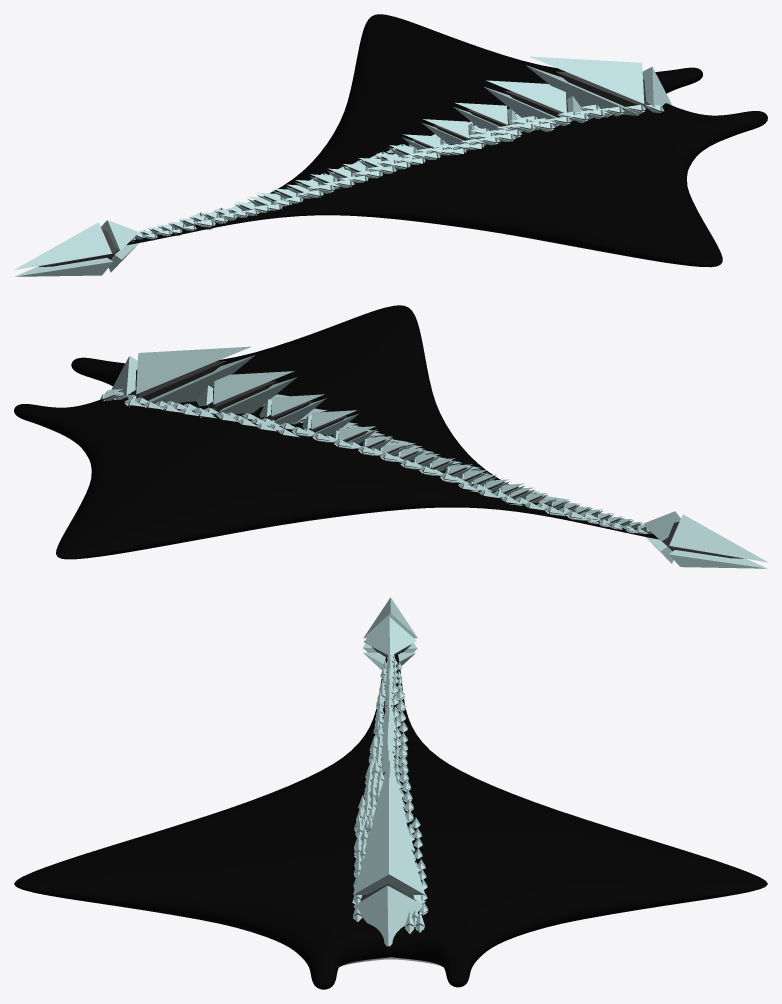
The model's file is enemy_boss.fbx.
3 views of the same model, one above another, from view 1: azimuth 30°, elevation 25°; view 2: azimuth 150°, elevation 25°; view 3: azimuth 270°, elevation 25° (orthographic). The views are drawn at different scales.
Parts seen in each view (by area): view 1: Cube; view 2: Cube; view 3: Cube.
Part boxes in pixels (x1,y1,x2,y2): Cube: (14, 14, 767, 276); Cube: (14, 305, 767, 568); Cube: (14, 597, 767, 989).
Bounding box in the file's own units: 763 × 116 × 627.
